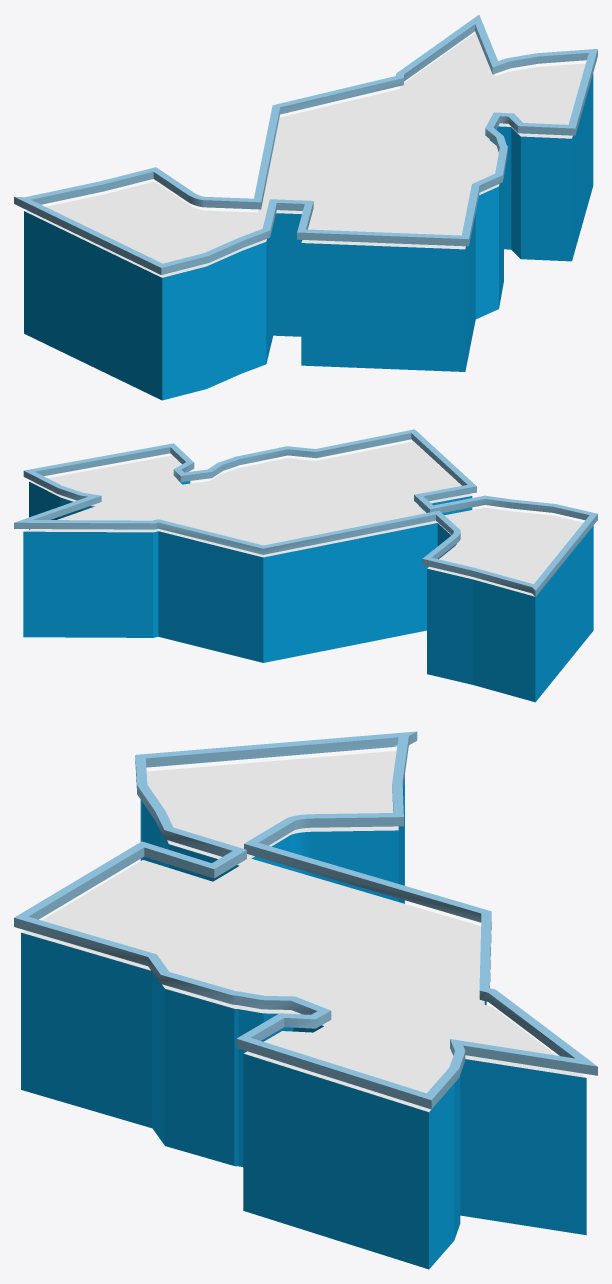
The picture shows the model from 3 angles, top to bottom: view 1: azimuth 30°, elevation 25°; view 2: azimuth 150°, elevation 25°; view 3: azimuth 270°, elevation 25°; orthographic projection. The views are drawn at different scales.
Visible parts, largest first — view 1: slide, celling, 扫描.2; view 2: slide, celling, 扫描.2; view 3: slide, celling, 扫描.2.
Boxes of the visible parts, box(x1,y1,x2,y2) form: slide: box(24, 73, 593, 400); celling: box(24, 32, 585, 277); 扫描.2: box(14, 15, 597, 274); slide: box(23, 480, 593, 702); celling: box(24, 441, 583, 596); 扫描.2: box(14, 429, 597, 596); slide: box(21, 775, 586, 1269); celling: box(21, 750, 586, 1111); 扫描.2: box(14, 731, 597, 1109).
Size of the model in its own units: 251 by 54.9 by 168.
